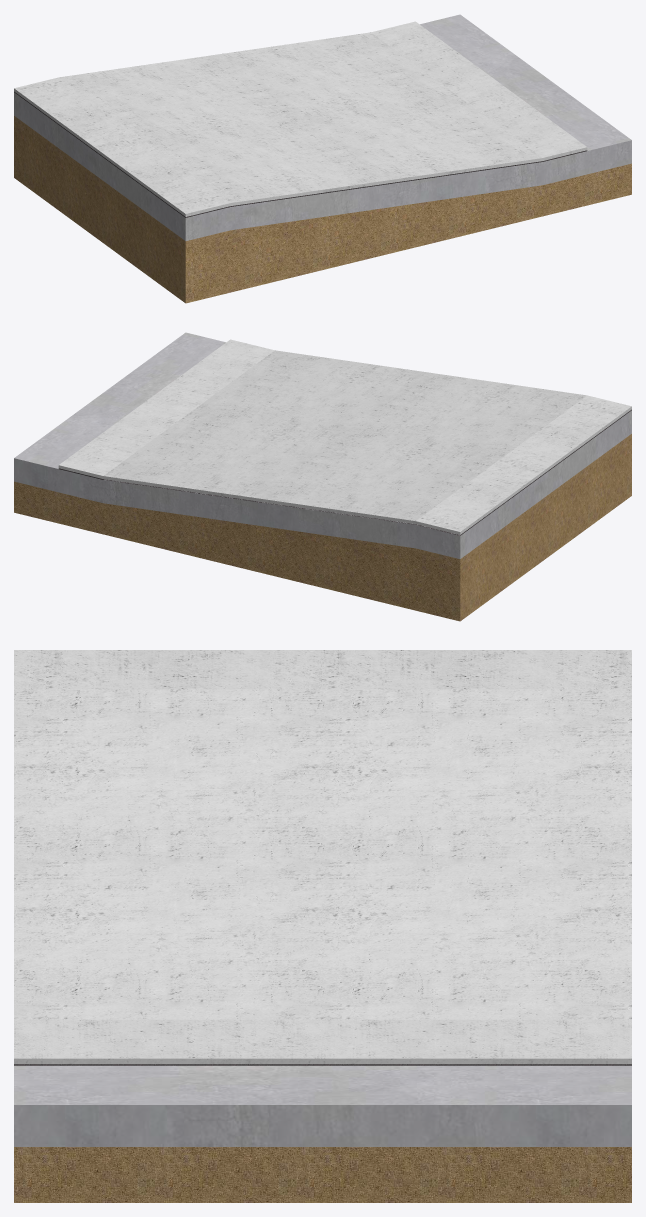
File: ramp-floor-02.glb
The picture shows the model from 3 angles, top to bottom: view 1: azimuth 30°, elevation 25°; view 2: azimuth 150°, elevation 25°; view 3: azimuth 270°, elevation 25°; orthographic projection. The views are drawn at different scales.
Parts seen in each view (by area): view 1: 20厚水泥砂浆面层, 素土夯实, 150厚c15混凝土, 纯水泥浆一道（内掺建筑胶）; view 2: 20厚水泥砂浆面层, 素土夯实, 150厚c15混凝土, 纯水泥浆一道（内掺建筑胶）; view 3: 20厚水泥砂浆面层, 150厚c15混凝土, 素土夯实, 纯水泥浆一道（内掺建筑胶）.
Part boxes in pixels (x1,y1,x2,y2): 20厚水泥砂浆面层: (14,21,587,216); 素土夯实: (14,116,631,303); 150厚c15混凝土: (14,14,631,240); 纯水泥浆一道（内掺建筑胶）: (14,91,587,217); 20厚水泥砂浆面层: (58,339,631,534); 素土夯实: (14,434,631,621); 150厚c15混凝土: (14,332,631,558); 纯水泥浆一道（内掺建筑胶）: (58,409,631,535); 20厚水泥砂浆面层: (14,650,631,1064); 150厚c15混凝土: (14,1065,631,1146); 素土夯实: (14,1147,631,1202); 纯水泥浆一道（内掺建筑胶）: (14,1064,631,1065).
Size of the model in its own units: 3 by 0.575 by 2.
4 materials, 4 textured.
